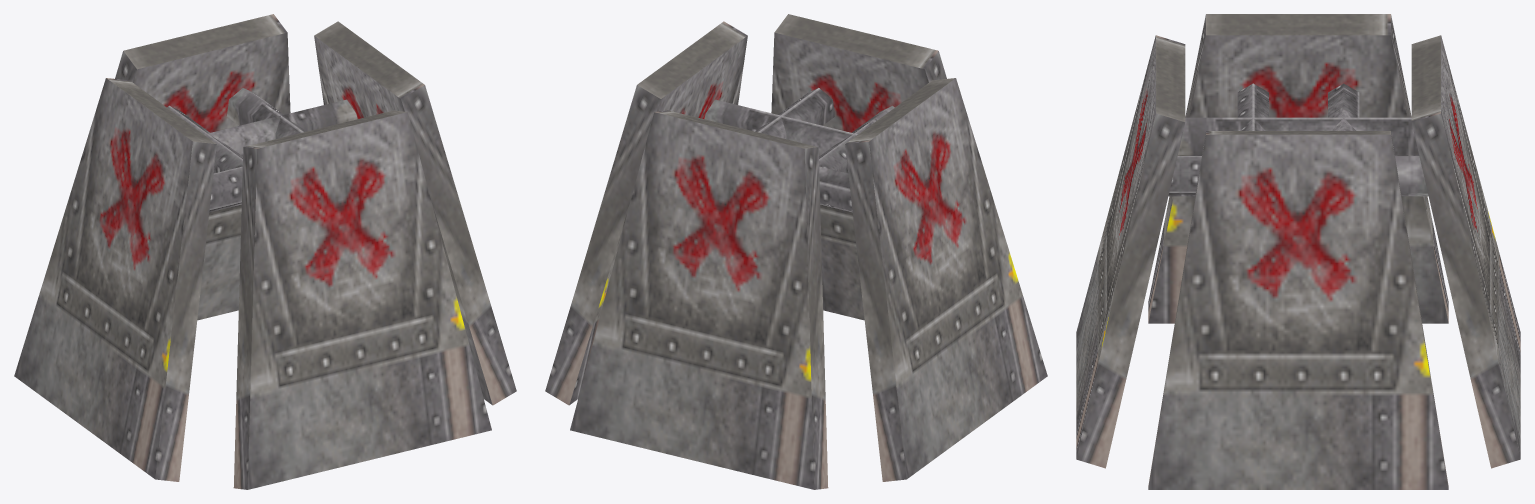
The picture shows the model from 3 angles, left to right: view 1: azimuth 30°, elevation 25°; view 2: azimuth 150°, elevation 25°; view 3: azimuth 270°, elevation 25°; orthographic projection. The views are drawn at different scales.
Visible parts, largest first — view 1: barricade; view 2: barricade; view 3: barricade.
Boxes of the visible parts, x1=… form: barricade: x1=14, y1=14, x2=516, y2=489; barricade: x1=545, y1=14, x2=1047, y2=489; barricade: x1=1076, y1=14, x2=1520, y2=489.
Size of the model in its own units: 201 by 165 by 201.
Materials: 1 (1 with a texture image).
